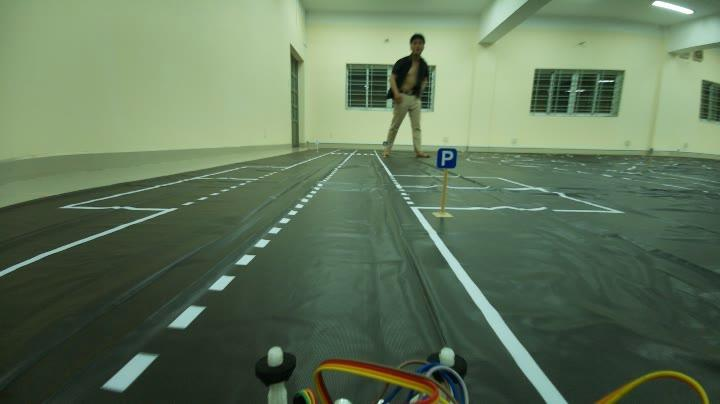parking: (433, 144, 465, 173)
